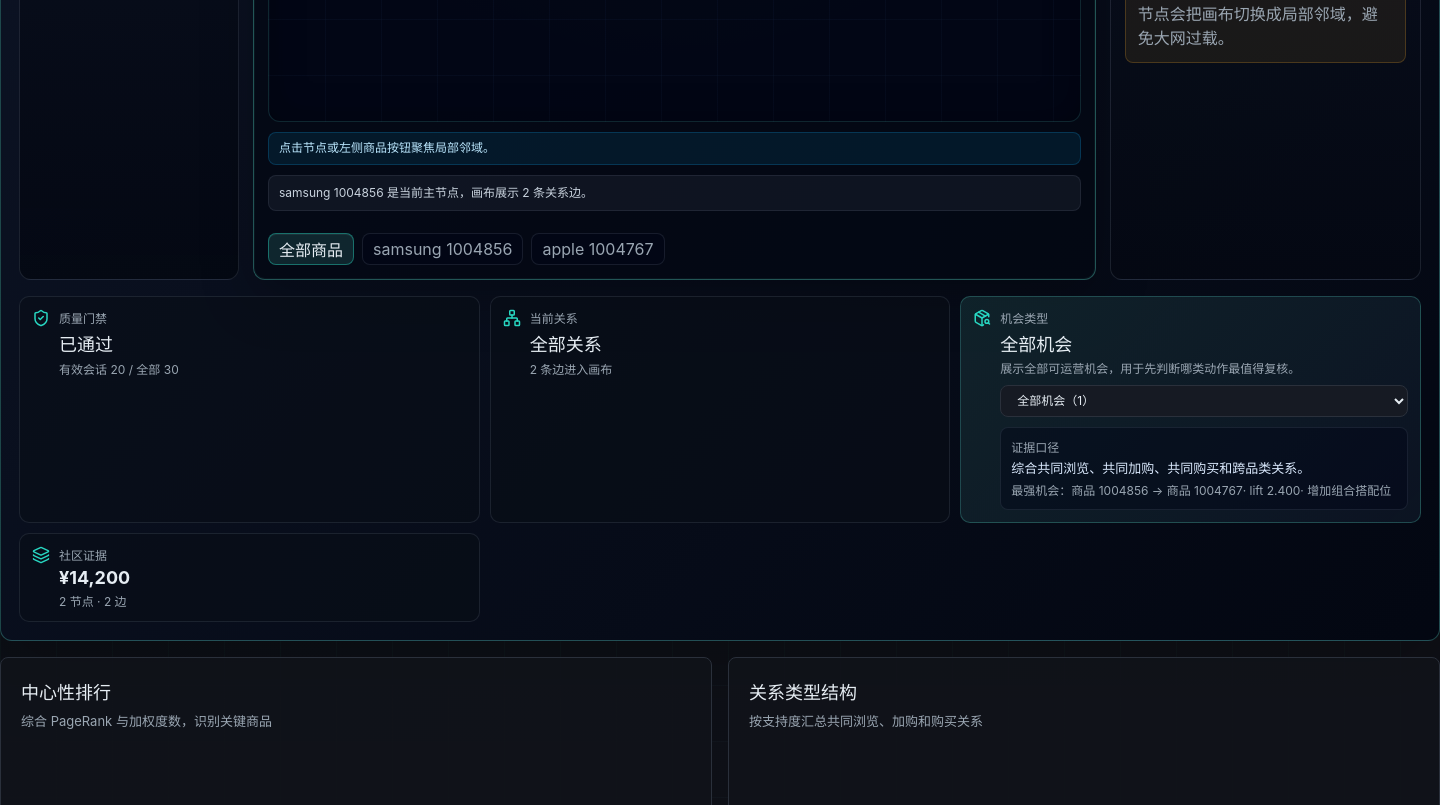
AffinityPage › explains opportunity type changes and syncs the graph relation lens
The width and height of the screenshot is (1440, 805).
(page scrolled)
Select "组合搭配（1）" in the dropdown named "机会类型" at (1204, 401), box [1000, 385, 1408, 417]
(page scrolled)
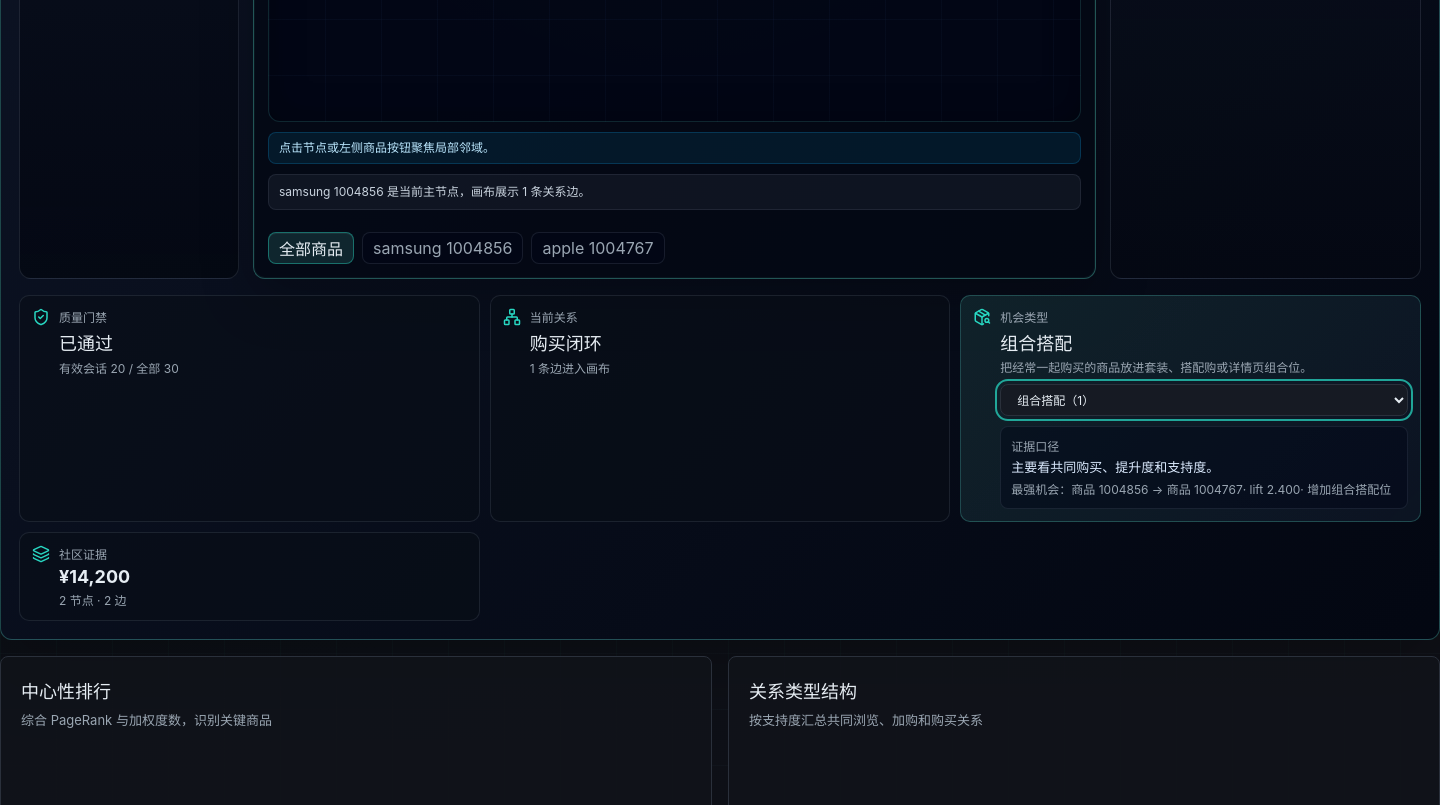
expect the text "最强机会：商品 1004856 → 商品 1004767· lift 2.400· 增加组合搭配位" is shown: met, box [1011, 481, 1397, 498]
expect the text "把经常一起购买的商品放进套装、搭配购或详情页组合位。" is shown: met, box [1000, 360, 1312, 375]
expect the text "主要看共同购买、提升度和支持度。" is shown: met, box [1011, 459, 1219, 475]
